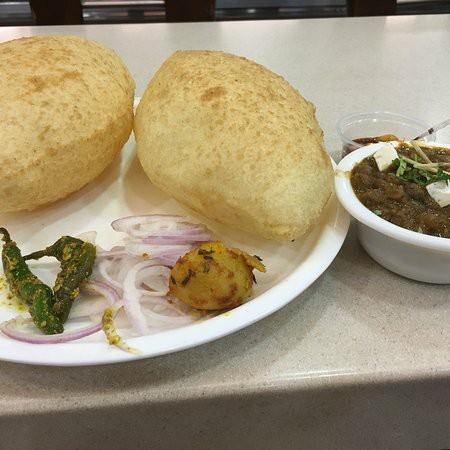Bhatura: (132, 49, 337, 248), (0, 34, 137, 216)
